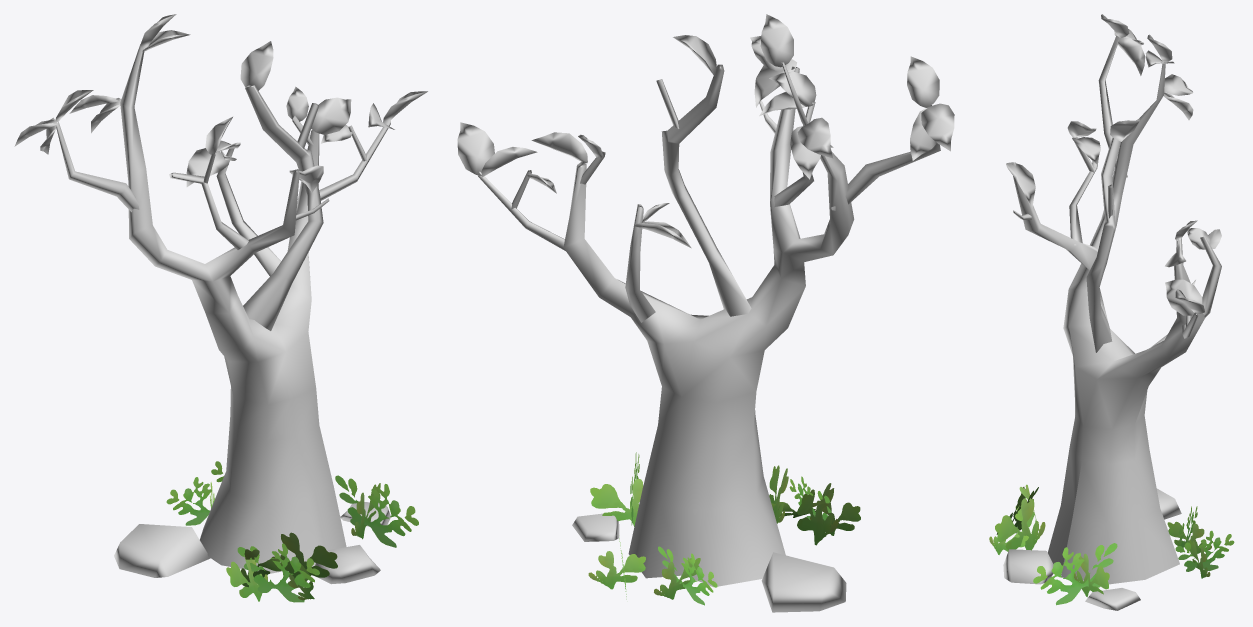
Rendered from P_plant_1311.fbx.
The picture shows the model from 3 angles, left to right: view 1: azimuth 30°, elevation 25°; view 2: azimuth 150°, elevation 25°; view 3: azimuth 270°, elevation 25°; orthographic projection. The views are drawn at different scales.
Visible parts, largest first — view 1: S_plant_1311_a, S_plant_1311_b; view 2: S_plant_1311_a, S_plant_1311_b; view 3: S_plant_1311_a, S_plant_1311_b.
Boxes of the visible parts, x1,y1,x2,y2 form: S_plant_1311_a: [14, 14, 427, 584]; S_plant_1311_b: [166, 461, 418, 602]; S_plant_1311_a: [457, 14, 954, 612]; S_plant_1311_b: [588, 452, 860, 605]; S_plant_1311_a: [1003, 14, 1221, 610]; S_plant_1311_b: [989, 484, 1234, 605].
Bounding box in the file's own units: 2.39 × 2.85 × 1.34.
Materials: 2 (1 with a texture image).
